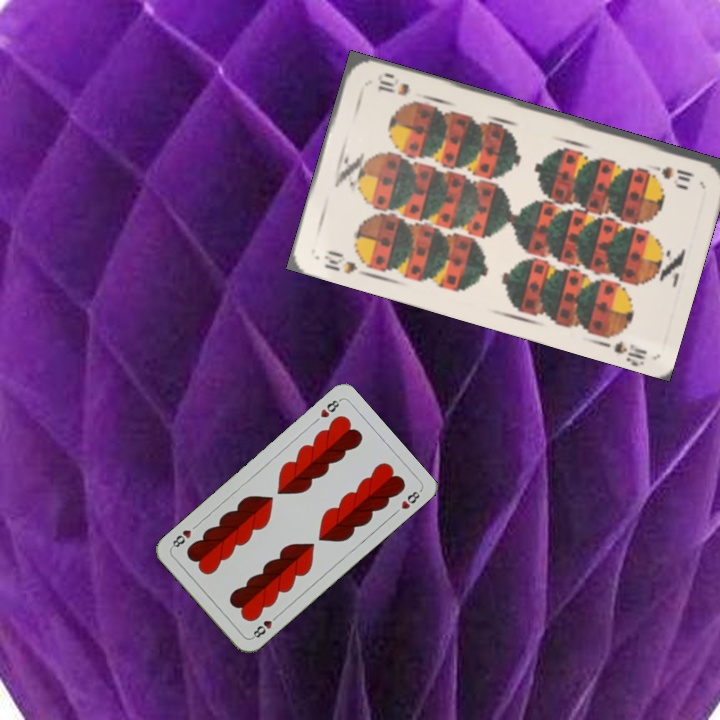H8: (248, 611, 281, 641), (316, 395, 343, 420)
S10: (319, 246, 372, 279), (643, 160, 697, 185)
